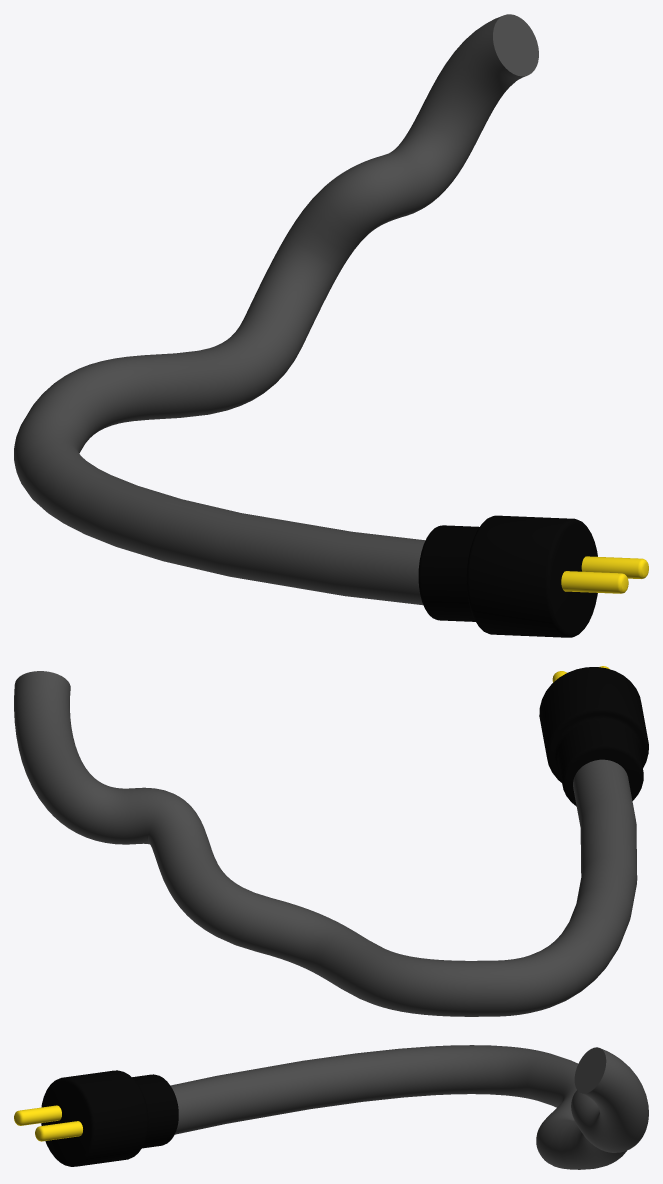
3 views of the same model, one above another, from view 1: azimuth 30°, elevation 25°; view 2: azimuth 150°, elevation 25°; view 3: azimuth 270°, elevation 25° (orthographic). The views are drawn at different scales.
Parts seen in each view (by area): view 1: Sweep_2, Elec_Back_002; view 2: Sweep_2, Elec_Back_002; view 3: Sweep_2, Elec_Back_002.
Part boxes in pixels (x1,y1,x2,y2): Sweep_2: (14,14,538,605); Elec_Back_002: (418,515,648,637); Sweep_2: (14,671,637,1016); Elec_Back_002: (539,666,648,806); Sweep_2: (170,1045,648,1169); Elec_Back_002: (14,1070,178,1166).
Bounding box in the file's own units: 82.78 × 104 × 42.21.
